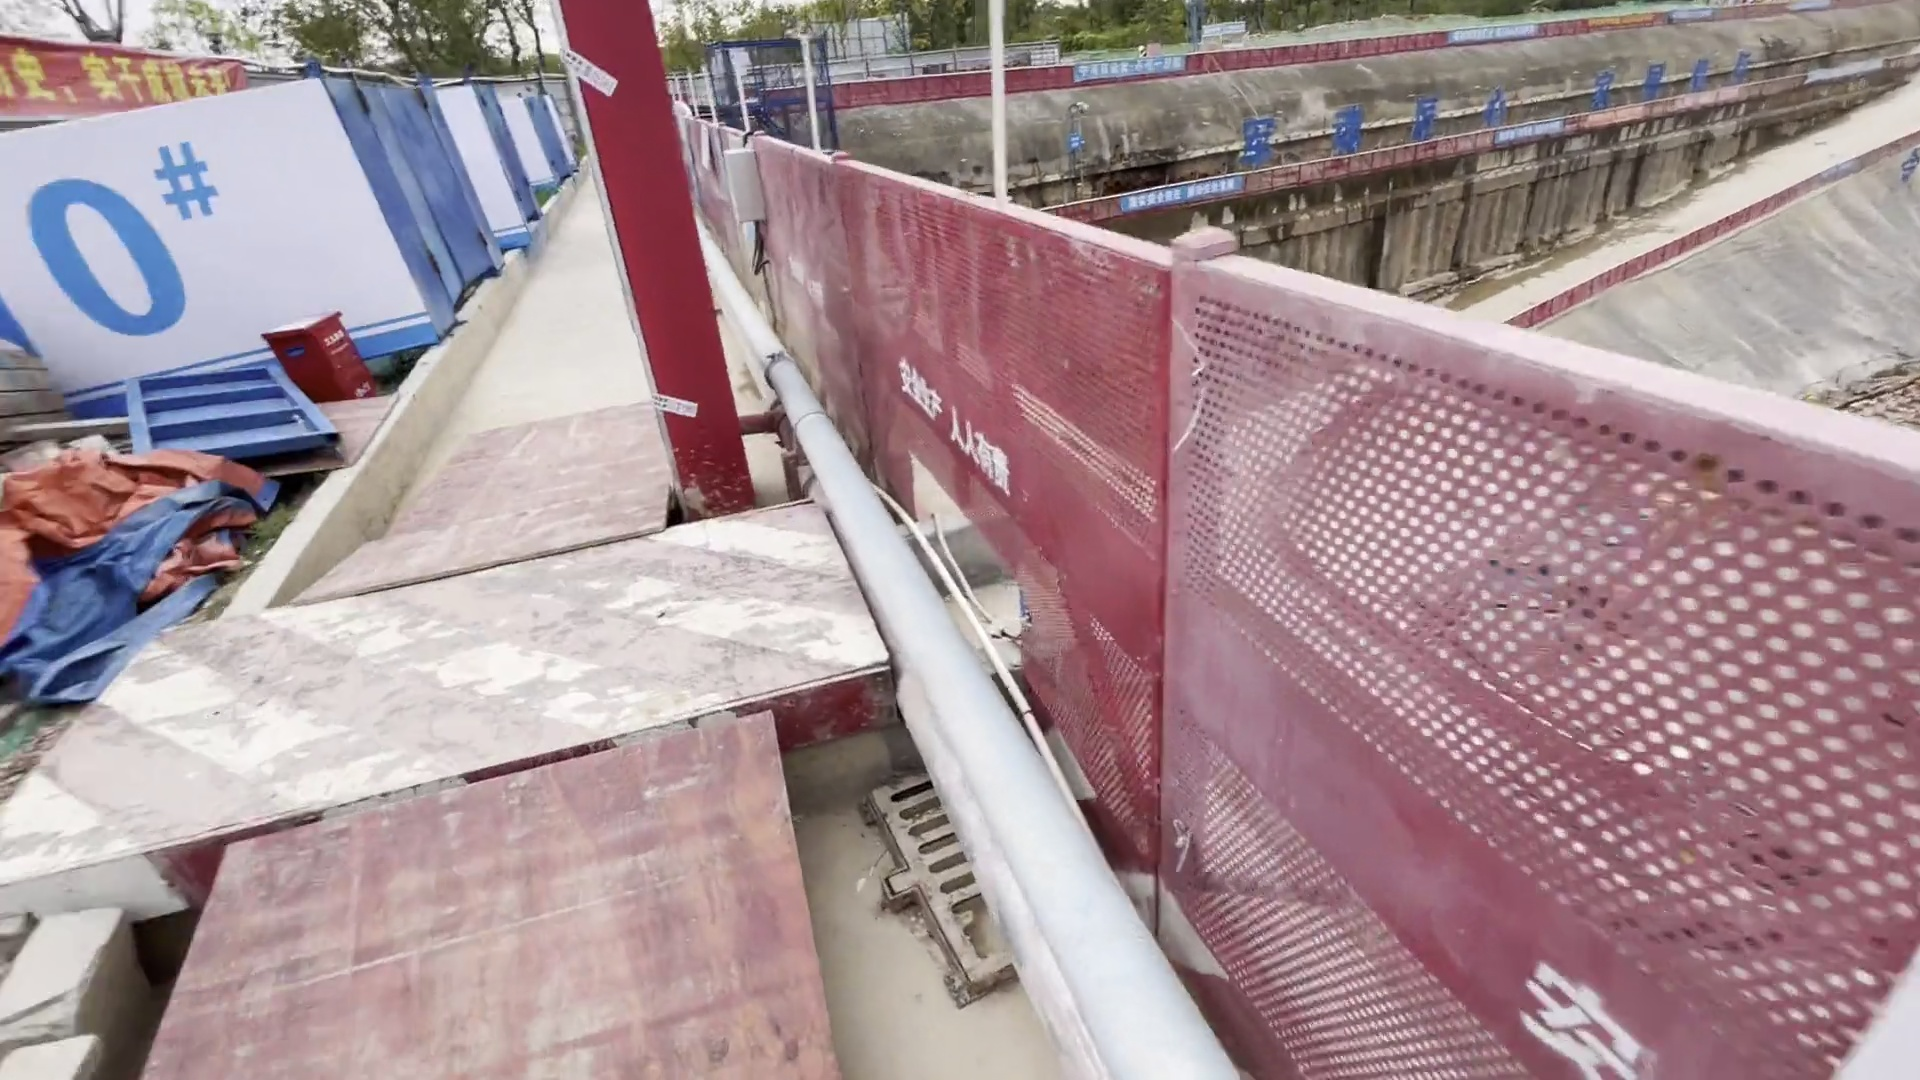fence: (700, 132, 1917, 1072)
